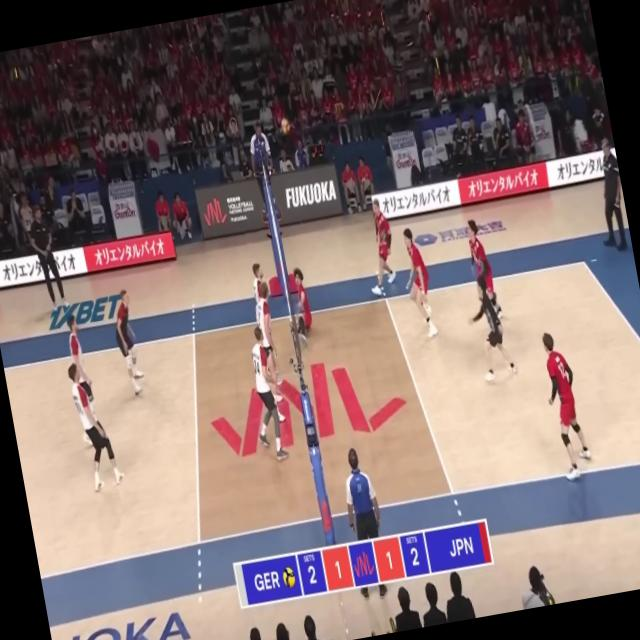referee: (334, 443, 394, 603)
team_one: (64, 356, 127, 494), (242, 324, 290, 462), (62, 311, 104, 446), (108, 287, 148, 398), (252, 282, 285, 388), (245, 262, 268, 300)
team_two: (536, 328, 596, 483), (461, 274, 520, 384), (398, 225, 442, 341), (355, 197, 400, 297), (460, 217, 498, 307), (286, 266, 317, 348)
